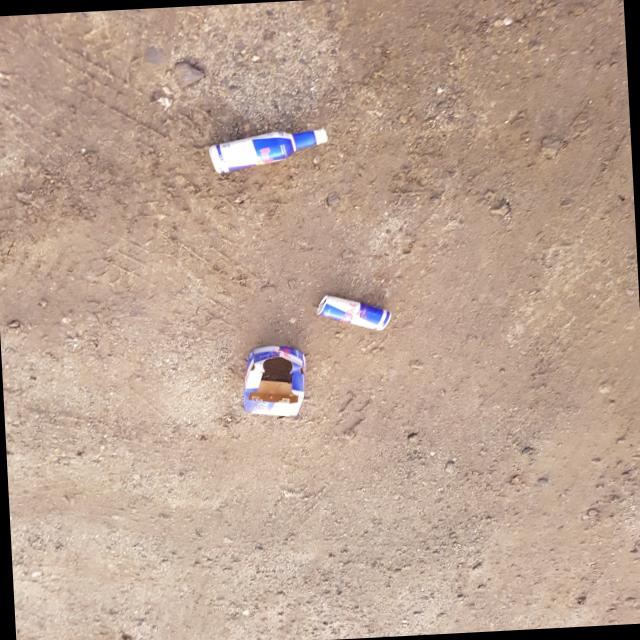less trash: (209, 128, 329, 174), (243, 346, 306, 417), (316, 296, 392, 331)
